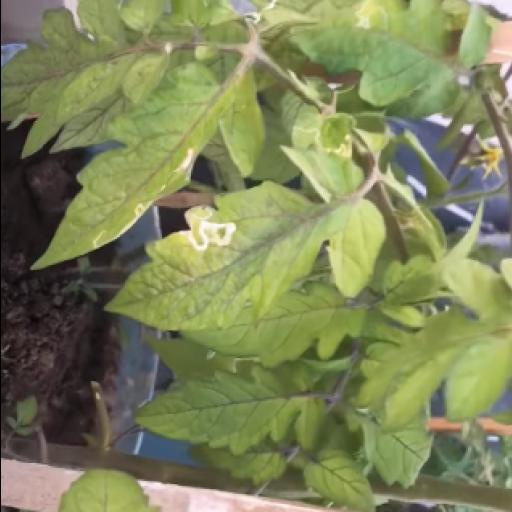disease_tomato: (103, 146, 387, 332)
